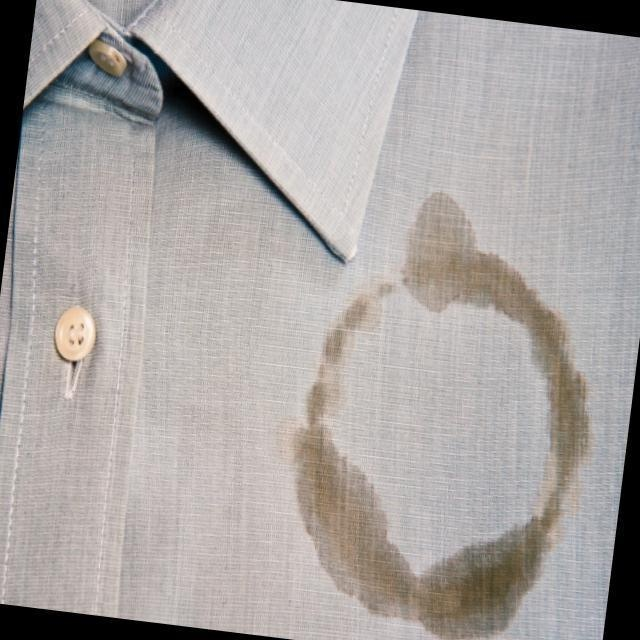coffee: (279, 433, 417, 627), (398, 207, 525, 319), (423, 536, 531, 639), (528, 302, 593, 473)
